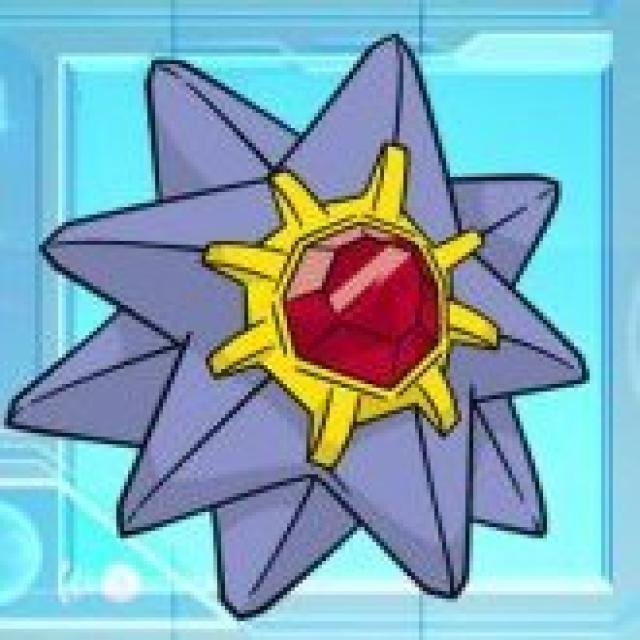Starmie: (108, 60, 566, 545)
